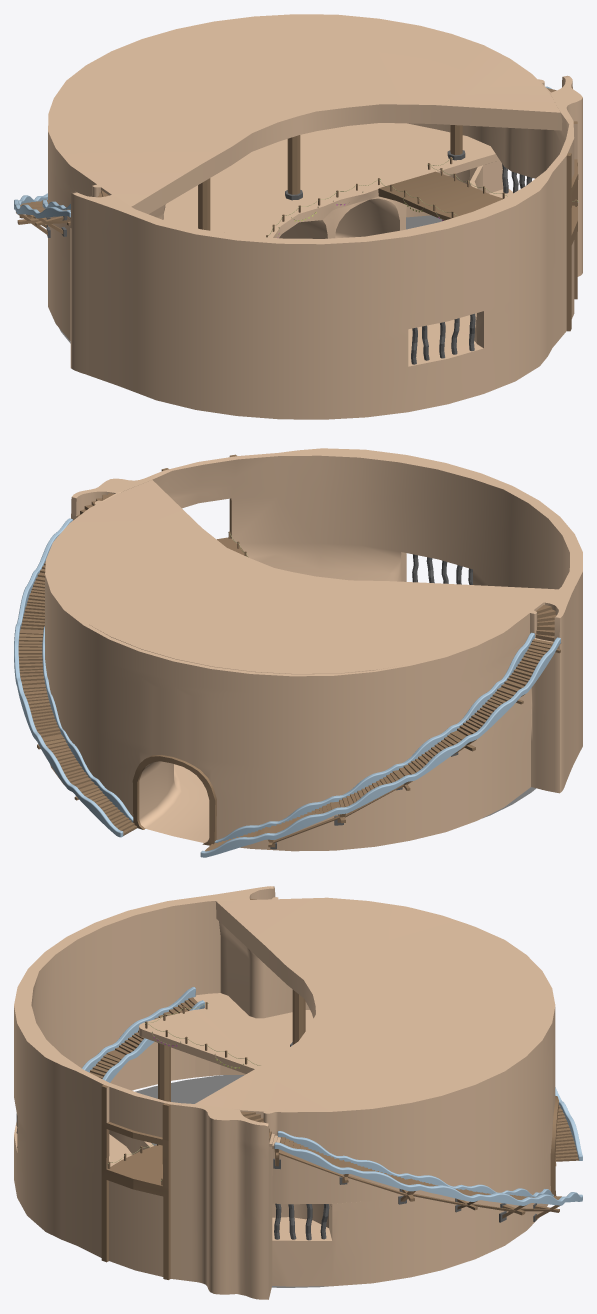
File: city_center_01.fbx
3 views of the same model, one above another, from view 1: azimuth 30°, elevation 25°; view 2: azimuth 150°, elevation 25°; view 3: azimuth 270°, elevation 25° (orthographic).
Parts seen in each view (by area): view 1: foundation, level3, level2, curved_stairs, wooden_beam_03, city_center_rope_fences, wooden_beam_04, wooden_supports; view 2: foundation, level3, curved_stairs, wooden_supports, small_stairs_01; view 3: foundation, level3, level2, curved_stairs, interior_curved_stairs, wooden_supports, level1, wooden_beam_02, wooden_beam_04.
Boxes of the visible parts, box(x1,y1,x2,y2) form: foundation: box(48, 14, 582, 419); level3: box(49, 14, 562, 214); level2: box(163, 123, 499, 238); curved_stairs: box(14, 86, 552, 218); wooden_beam_03: box(285, 135, 302, 200); city_center_rope_fences: box(266, 157, 578, 237); wooden_beam_04: box(198, 178, 210, 230); wooden_supports: box(16, 212, 70, 235); foundation: box(45, 448, 582, 851); level3: box(47, 480, 558, 673); curved_stairs: box(14, 518, 560, 857); wooden_supports: box(37, 643, 560, 847); small_stairs_01: box(536, 605, 556, 641); foundation: box(14, 886, 558, 1299); level3: box(195, 897, 551, 1111); level2: box(138, 993, 332, 1210); curved_stairs: box(274, 1087, 582, 1205); interior_curved_stairs: box(82, 987, 204, 1082); wooden_supports: box(274, 1149, 560, 1219); level1: box(135, 1075, 328, 1287); wooden_beam_02: box(158, 1043, 170, 1101); wooden_beam_04: box(290, 990, 305, 1046).
Bounding box in the file's own units: 8122 × 2785 × 8110.
